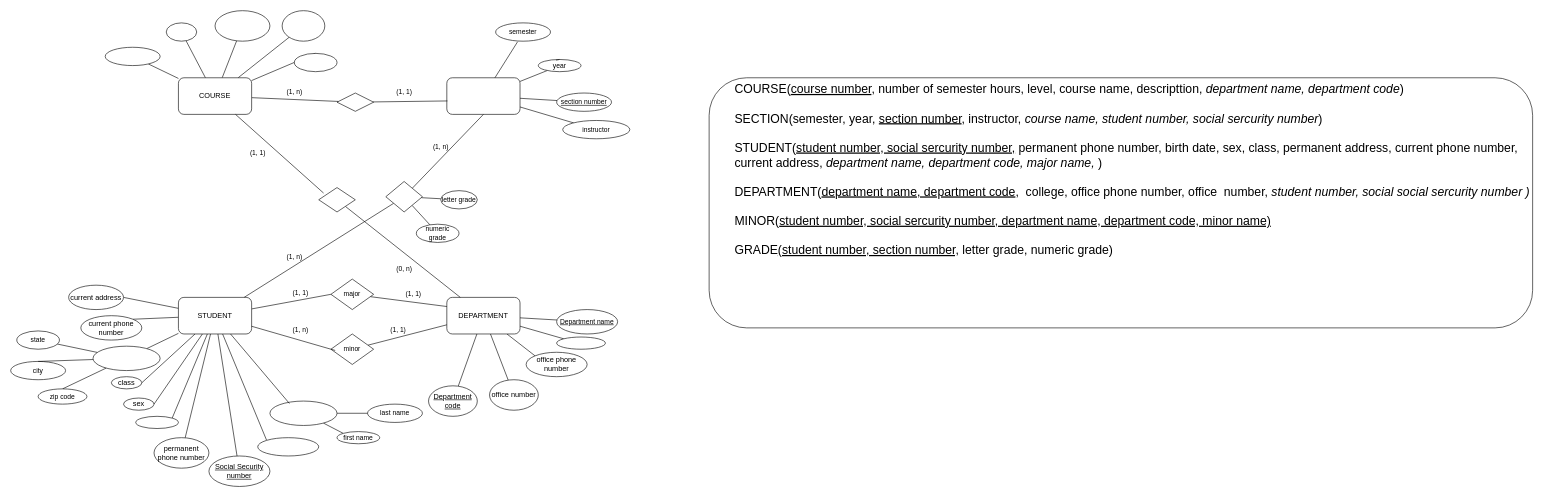
Some shapes in this 1543 by 497 pixel diagram are drawn without their labels. Each missing label, with the box of its shape:
birth date: (135, 416, 178, 429)
college: (556, 336, 605, 349)
course name: (105, 47, 160, 66)
course number: (282, 10, 325, 41)
description: (294, 53, 337, 72)
grade: (385, 181, 422, 212)
have: (336, 92, 374, 111)
level: (166, 22, 197, 41)
number of semester hours: (214, 10, 270, 41)
offer: (318, 187, 355, 212)
permanent address: (92, 346, 160, 371)
SECTION: (446, 77, 520, 114)
student number: (257, 437, 319, 456)
Student's name: (269, 400, 337, 425)
